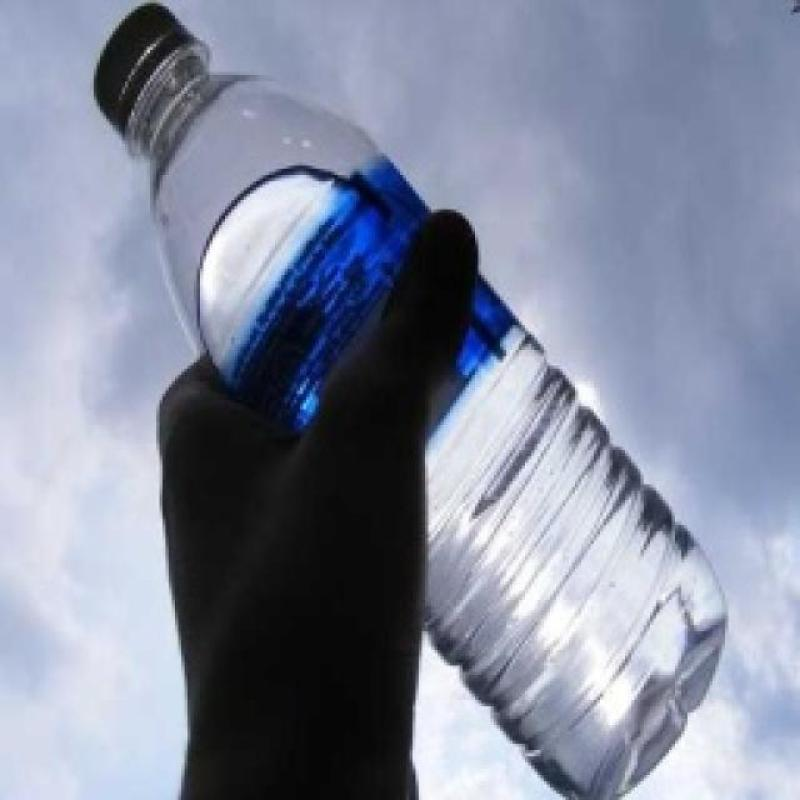botella: (94, 2, 728, 800)
